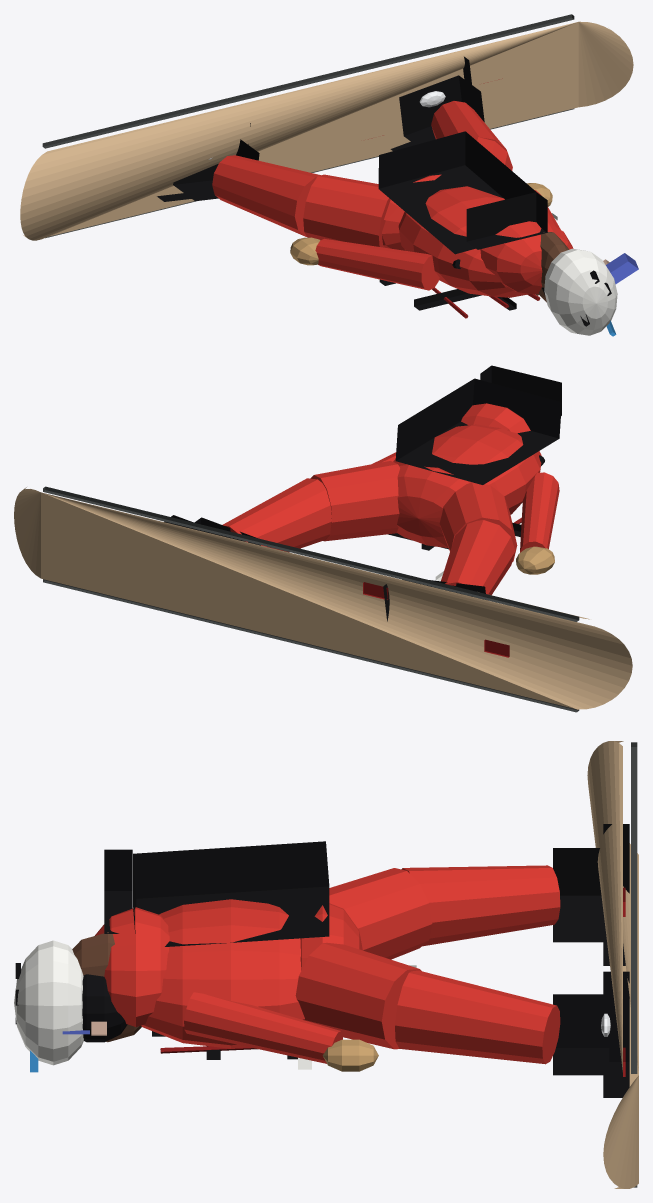
Rendered from snowboarder.glb.
3 renders of one model, top to bottom at view 1: azimuth 30°, elevation 25°; view 2: azimuth 150°, elevation 25°; view 3: azimuth 270°, elevation 25°, orthographic. The views are drawn at different scales.
Parts seen in each view (by area): view 1: wide_natural_wood_snowboard_under_rider, large_black_backpack_on_rider_back, red_jacket_torso_slightly_right_facing, left_red_lower_pant_boot_to_knee, left_red_upper_pant_knee_to_hip, white_helmet_turned_to_right_direction, black_snowboard_boot_locked_in_binding (×2), left_red_sleeve_relaxed, dark_metal_snowboard_left_edge, red_raised_hood_behind_helmet, rounded_black_backpack_top_lid, right_red_lower_pant_boot_to_knee (+5 smaller); view 2: wide_natural_wood_snowboard_under_rider, large_black_backpack_on_rider_back, right_red_upper_pant_knee_to_hip, right_red_lower_pant_boot_to_knee, red_jacket_torso_slightly_right_facing, red_pants_hip_block, left_red_lower_pant_boot_to_knee, dark_metal_snowboard_left_edge, left_red_upper_pant_knee_to_hip, left_red_sleeve_relaxed, dark_metal_snowboard_right_edge, rounded_black_backpack_top_lid (+2 smaller); view 3: red_jacket_torso_slightly_right_facing, large_black_backpack_on_rider_back, right_red_lower_pant_boot_to_knee, wide_natural_wood_snowboard_under_rider, left_red_lower_pant_boot_to_knee, black_snowboard_boot_locked_in_binding (×2), right_red_upper_pant_knee_to_hip, white_helmet_turned_to_right_direction, left_red_upper_pant_knee_to_hip, right_red_sleeve_relaxed, red_raised_hood_behind_helmet, black_binding_on_wood_board (×2) (+6 smaller).
Part boxes in pixels (bbox=[...]): wide_natural_wood_snowboard_under_rider: bbox=[20, 21, 633, 240]; large_black_backpack_on_rider_back: bbox=[378, 131, 535, 254]; red_jacket_torso_slightly_right_facing: bbox=[398, 186, 528, 297]; left_red_lower_pant_boot_to_knee: bbox=[212, 155, 320, 236]; left_red_upper_pant_knee_to_hip: bbox=[303, 174, 390, 247]; white_helmet_turned_to_right_direction: bbox=[544, 248, 617, 335]; black_snowboard_boot_locked_in_binding (×2): bbox=[173, 75, 484, 201]; left_red_sleeve_relaxed: bbox=[315, 238, 439, 290]; dark_metal_snowboard_left_edge: bbox=[42, 14, 574, 148]; red_raised_hood_behind_helmet: bbox=[480, 221, 573, 294]; rounded_black_backpack_top_lid: bbox=[466, 192, 547, 249]; right_red_lower_pant_boot_to_knee: bbox=[431, 101, 507, 151]; wide_natural_wood_snowboard_under_rider: bbox=[14, 487, 632, 709]; large_black_backpack_on_rider_back: bbox=[395, 378, 561, 484]; right_red_upper_pant_knee_to_hip: bbox=[310, 461, 399, 541]; right_red_lower_pant_boot_to_knee: bbox=[222, 478, 331, 552]; red_jacket_torso_slightly_right_facing: bbox=[393, 424, 541, 514]; red_pants_hip_block: bbox=[396, 465, 471, 548]; left_red_lower_pant_boot_to_knee: bbox=[441, 520, 515, 595]; dark_metal_snowboard_left_edge: bbox=[43, 486, 579, 621]; left_red_upper_pant_knee_to_hip: bbox=[439, 482, 517, 562]; left_red_sleeve_relaxed: bbox=[520, 472, 559, 552]; dark_metal_snowboard_right_edge: bbox=[43, 579, 579, 712]; rounded_black_backpack_top_lid: bbox=[480, 365, 561, 415]; red_jacket_torso_slightly_right_facing: bbox=[141, 899, 304, 1048]; large_black_backpack_on_rider_back: bbox=[133, 841, 329, 946]; right_red_lower_pant_boot_to_knee: bbox=[395, 970, 560, 1064]; wide_natural_wood_snowboard_under_rider: bbox=[587, 741, 638, 1188]; left_red_lower_pant_boot_to_knee: bbox=[401, 865, 560, 946]; black_snowboard_boot_locked_in_binding (×2): bbox=[553, 848, 609, 1075]; right_red_upper_pant_knee_to_hip: bbox=[295, 942, 421, 1049]; white_helmet_turned_to_right_direction: bbox=[14, 940, 83, 1065]; left_red_upper_pant_knee_to_hip: bbox=[329, 868, 432, 959]; right_red_sleeve_relaxed: bbox=[184, 992, 342, 1063]; red_raised_hood_behind_helmet: bbox=[95, 907, 169, 1026]; black_binding_on_wood_board (×2): bbox=[603, 824, 629, 1097].
Size of the model in its own units: 2.55 by 0.5064 by 1.78.
